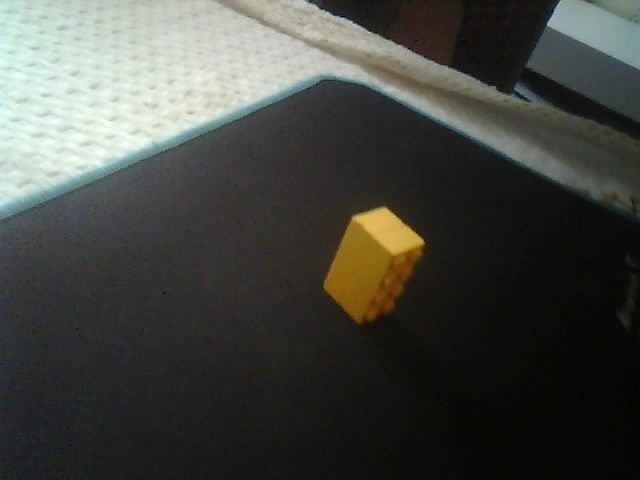lego: (321, 206, 425, 326)
